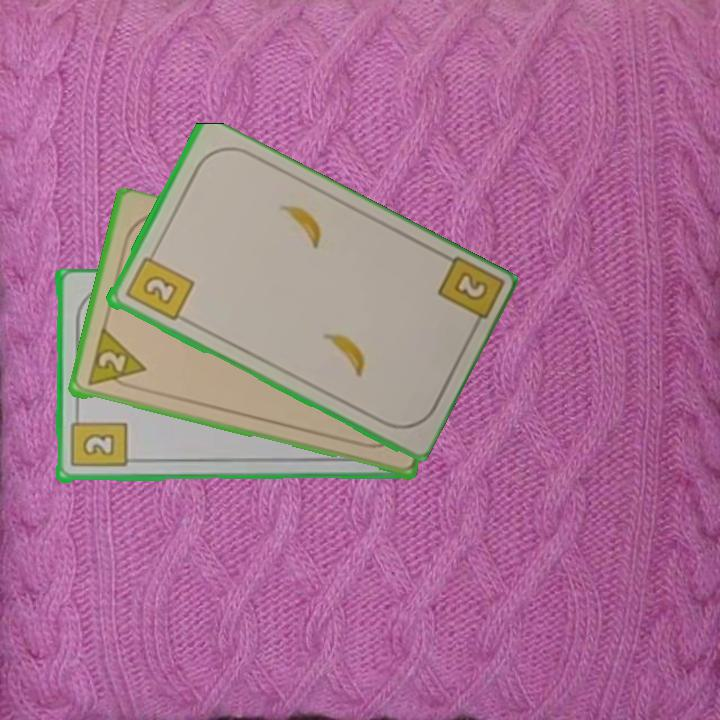2b: (121, 246, 196, 324), (433, 254, 503, 336), (67, 409, 128, 470)
2p: (83, 327, 148, 392)
